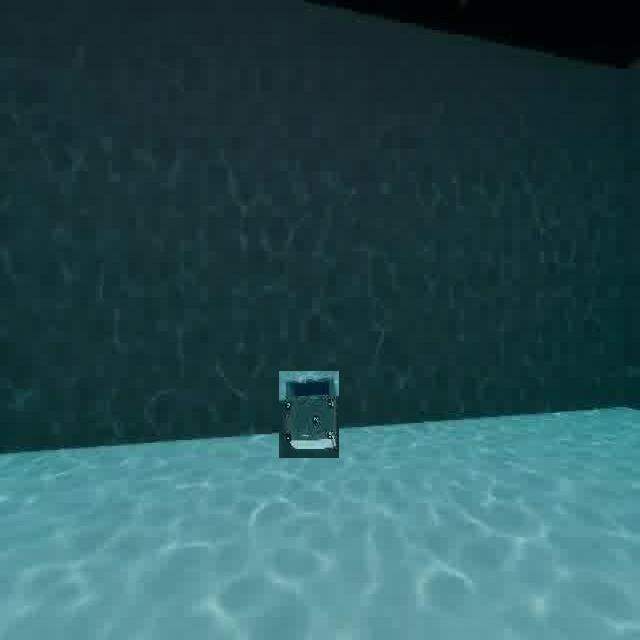Docking Station: (278, 371, 339, 458)
